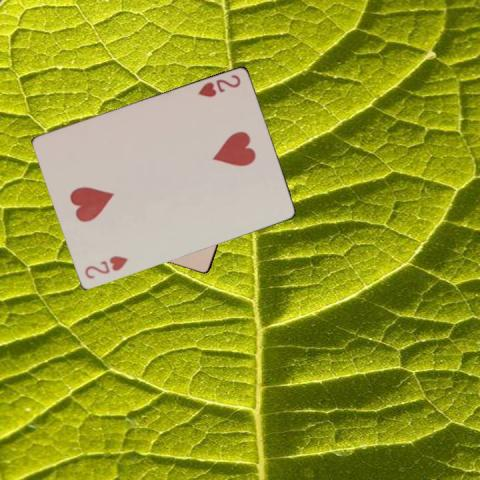2h: (195, 71, 242, 99), (82, 252, 129, 280)
